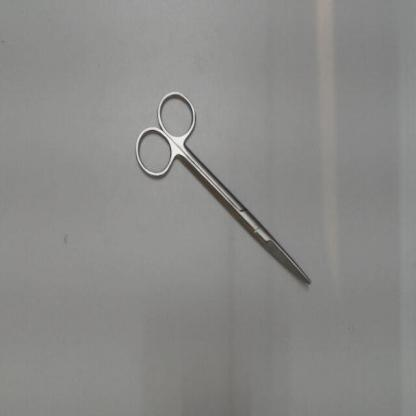Curved Mayo Scissors: (129, 80, 317, 294)
